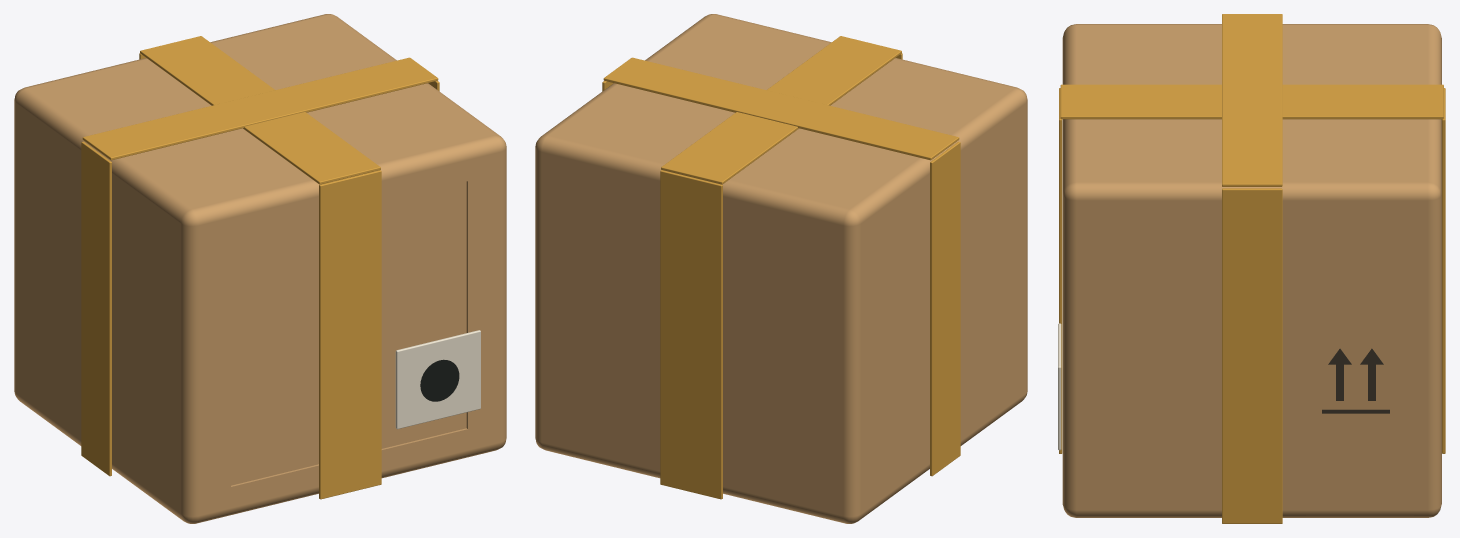
The model's file is play-parcel-large-yellow-up-arrows.glb.
3 renders of one model, left to right at view 1: azimuth 30°, elevation 25°; view 2: azimuth 150°, elevation 25°; view 3: azimuth 270°, elevation 25°, orthographic. The views are drawn at different scales.
Parts seen in each view (by area): view 1: Parcel_Carton, Parcel_Tape_Front_Back_0095, Parcel_Tape_Top_Cross, Parcel_Tape_Sides_-01, Parcel_Tape_Top_Length, Parcel_Paper_Label, Parcel_Label_Circle; view 2: Parcel_Carton, Parcel_Tape_Front_Back_-0095, Parcel_Tape_Top_Cross, Parcel_Tape_Sides_-01, Parcel_Tape_Top_Length; view 3: Parcel_Carton, Parcel_Tape_Sides_01, Parcel_Tape_Top_Length, Parcel_Tape_Top_Cross, Parcel_Tape_Front_Back_-0095, Parcel_Up_Arrows_Positive_X, Parcel_Tape_Front_Back_0095, Parcel_Paper_Label.
Boxes of the visible parts, <box> form: Parcel_Carton: <box>14,14,506,523</box>; Parcel_Tape_Front_Back_0095: <box>319,170,381,499</box>; Parcel_Tape_Top_Cross: <box>82,57,438,160</box>; Parcel_Tape_Sides_-01: <box>81,141,111,476</box>; Parcel_Tape_Top_Length: <box>140,36,380,184</box>; Parcel_Paper_Label: <box>395,330,480,429</box>; Parcel_Label_Circle: <box>420,359,459,401</box>; Parcel_Carton: <box>535,14,1027,523</box>; Parcel_Tape_Front_Back_-0095: <box>660,170,722,499</box>; Parcel_Tape_Top_Cross: <box>603,57,959,160</box>; Parcel_Tape_Sides_-01: <box>930,141,960,476</box>; Parcel_Tape_Top_Length: <box>661,36,901,184</box>; Parcel_Carton: <box>1062,24,1441,517</box>; Parcel_Tape_Sides_01: <box>1222,188,1282,523</box>; Parcel_Tape_Top_Length: <box>1060,84,1443,119</box>; Parcel_Tape_Top_Cross: <box>1222,14,1282,186</box>; Parcel_Tape_Front_Back_-0095: <box>1442,88,1445,453</box>; Parcel_Up_Arrows_Positive_X: <box>1322,348,1389,413</box>; Parcel_Tape_Front_Back_0095: <box>1059,88,1062,453</box>; Parcel_Paper_Label: <box>1058,323,1061,450</box>.
Size of the model in its own units: 0.2037 by 0.1877 by 0.195.
